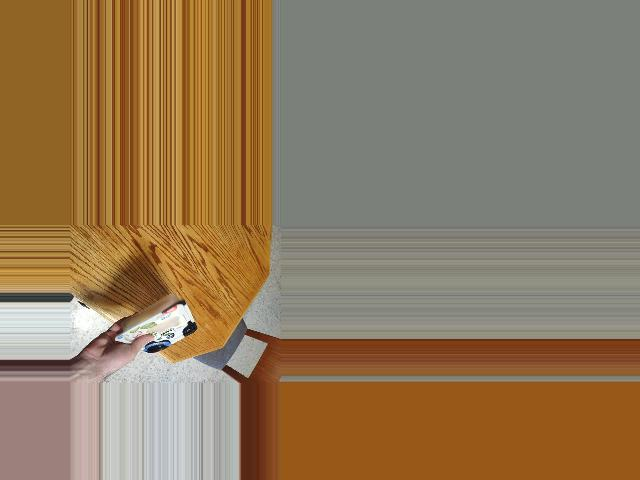cheese: (128, 286, 193, 363)
